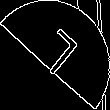L_SW: (28, 26, 82, 84)
